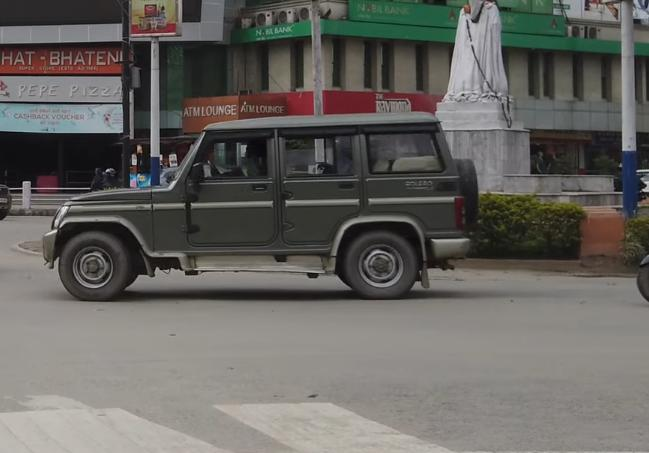SUV: (41, 99, 484, 317)
